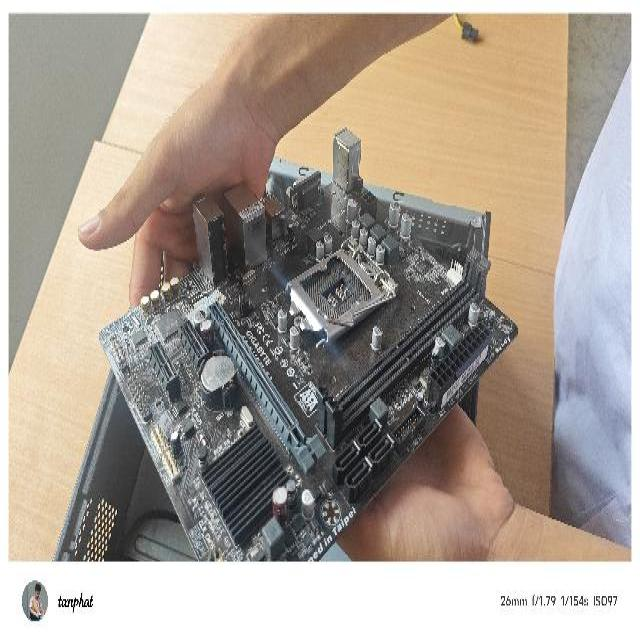Mainboard: (95, 118, 522, 564)
